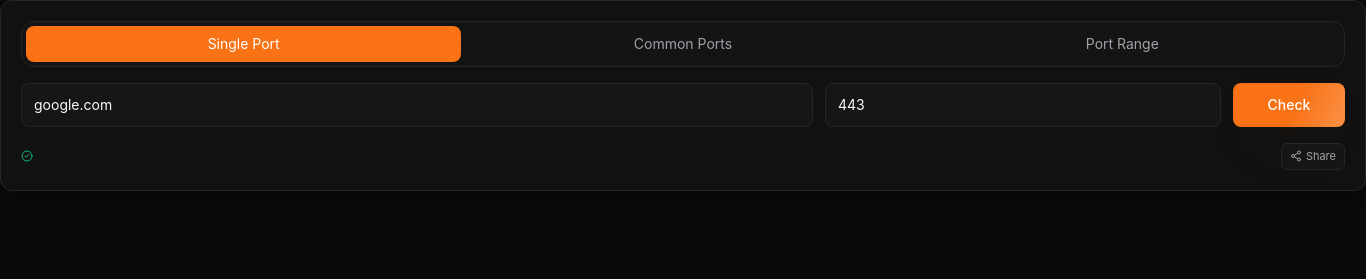
Test: PortCheckerClient — input validation › blocks a port outside 1-65535 in single mode
The image size is (1366, 279).
Replace the text in the number field named "port" with "70000": (1023, 105) [825, 83, 1221, 127]
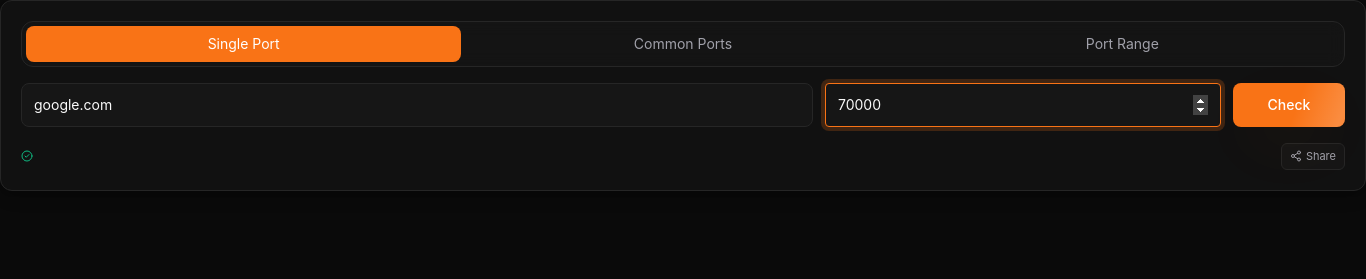
Click the button "Check": (1289, 105) [1233, 83, 1345, 127]
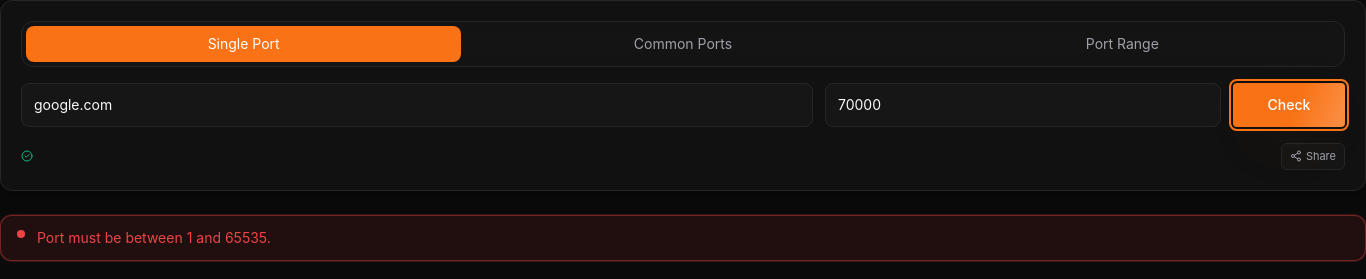
Expected: the message "Port must be between 1 and 65535." is shown, [0, 214, 1365, 260]
